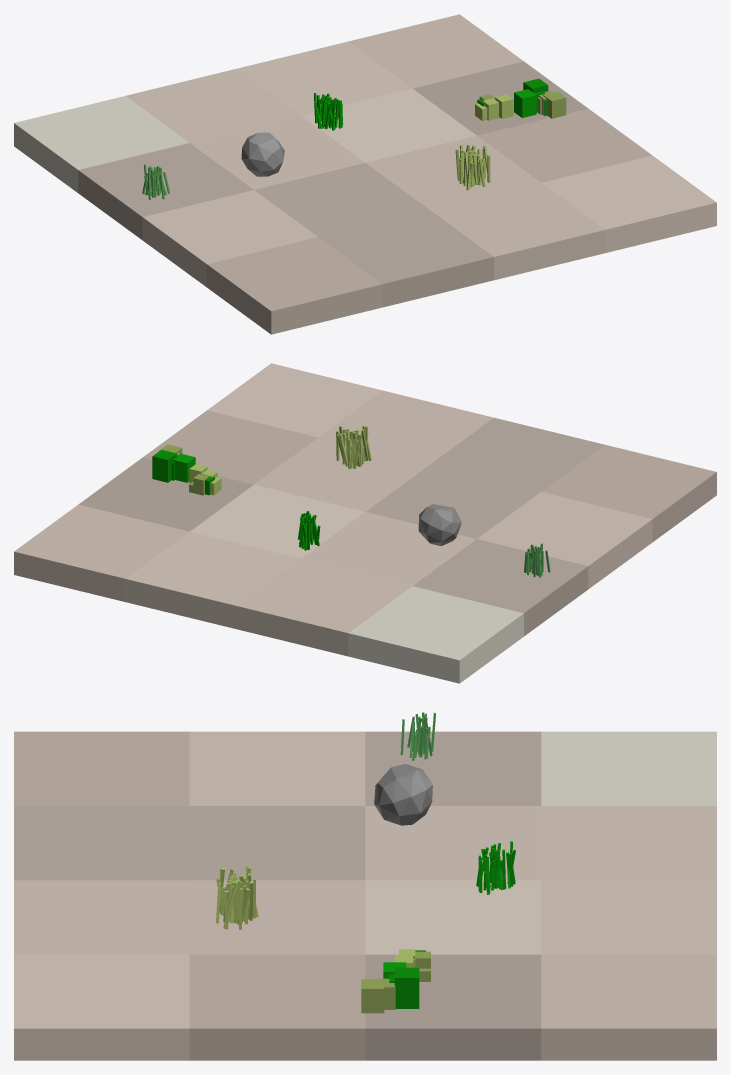
Rendered from desert.glb.
The picture shows the model from 3 angles, top to bottom: view 1: azimuth 30°, elevation 25°; view 2: azimuth 150°, elevation 25°; view 3: azimuth 270°, elevation 25°; orthographic projection. The views are drawn at different scales.
Parts seen in each view (by area): view 1: world; view 2: world; view 3: world.
Boxes of the visible parts, x1=… form: world: x1=14, y1=14, x2=716, y2=334; world: x1=14, y1=363, x2=716, y2=683; world: x1=14, y1=712, x2=716, y2=1060.
Size of the model in its own units: 4 by 0.5238 by 4.
